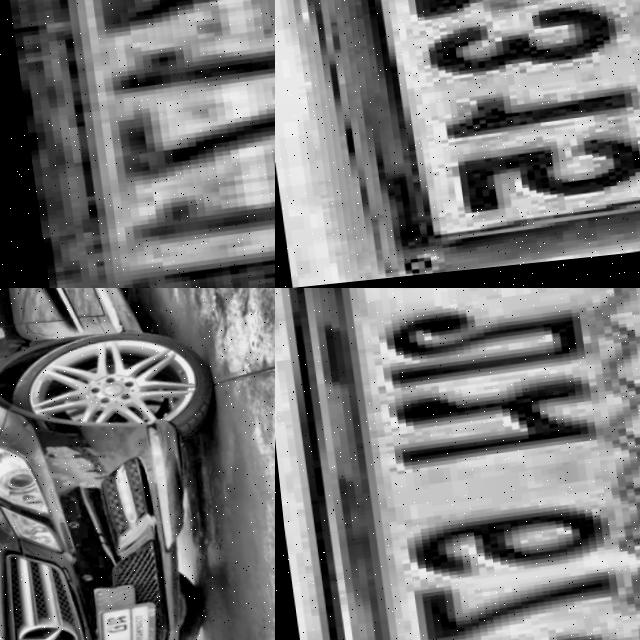license-plate: (279, 288, 640, 640), (275, 0, 640, 288), (0, 0, 275, 288), (82, 607, 148, 640)
